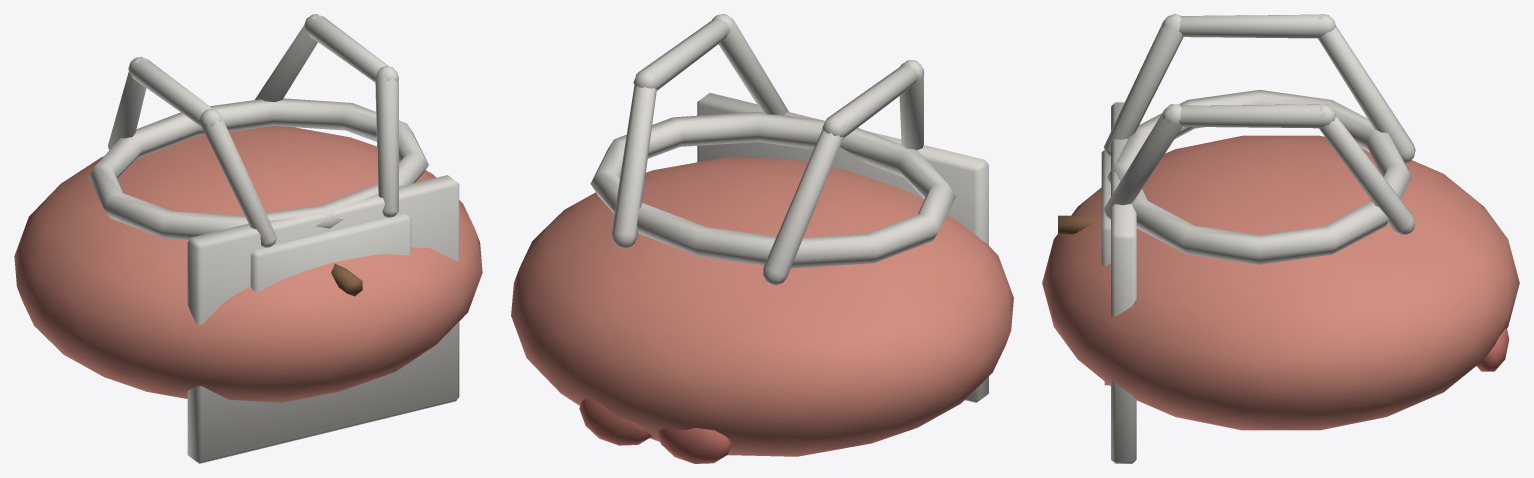
The model's file is outfit.baker.glb.
3 renders of one model, left to right at view 1: azimuth 30°, elevation 25°; view 2: azimuth 150°, elevation 25°; view 3: azimuth 270°, elevation 25°, orthographic. The views are drawn at different scales.
Parts seen in each view (by area): view 1: headscarf, apron_skirt, apron_bib, rolling_pin; view 2: headscarf, apron_skirt, apron_bib; view 3: headscarf, apron_bib, apron_skirt, rolling_pin.
Part boxes in pixels (bbox=[...]): headscarf: bbox=[14, 126, 482, 402]; apron_skirt: bbox=[88, 98, 459, 463]; apron_bib: bbox=[108, 14, 411, 292]; rolling_pin: bbox=[331, 263, 362, 296]; headscarf: bbox=[511, 157, 1013, 463]; apron_skirt: bbox=[590, 93, 988, 402]; apron_bib: bbox=[611, 14, 924, 285]; headscarf: bbox=[1042, 135, 1519, 430]; apron_bib: bbox=[1101, 14, 1415, 265]; apron_skirt: bbox=[1104, 89, 1411, 463]; rolling_pin: bbox=[1058, 215, 1099, 234].
Bounding box in the file's own units: 0.47 × 0.352 × 0.45.
